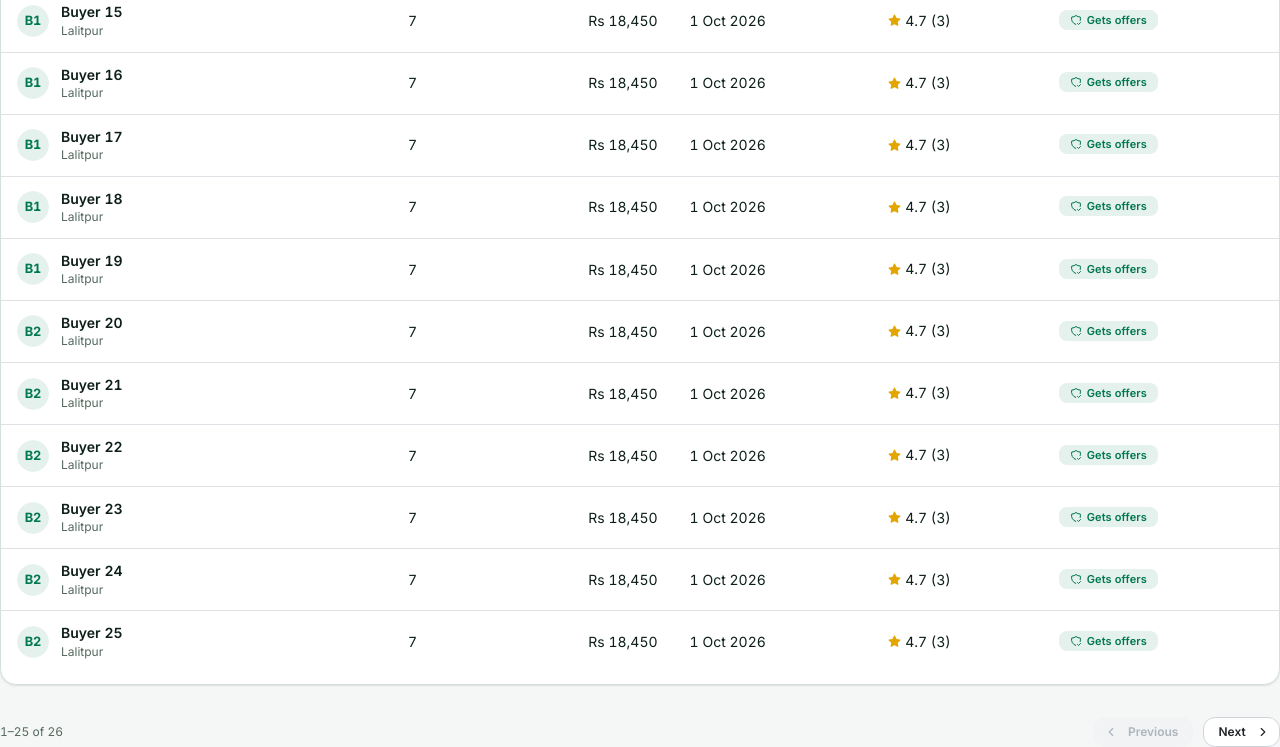
it: customers › lists synced buyers without ever showing phone or email, with paging
(page scrolled)
What coordinates should you click on to do the following:
click the button "Next"
I would click on:
 (1242, 732)
Its box is left=1204, top=718, right=1279, bottom=746.
(page scrolled)
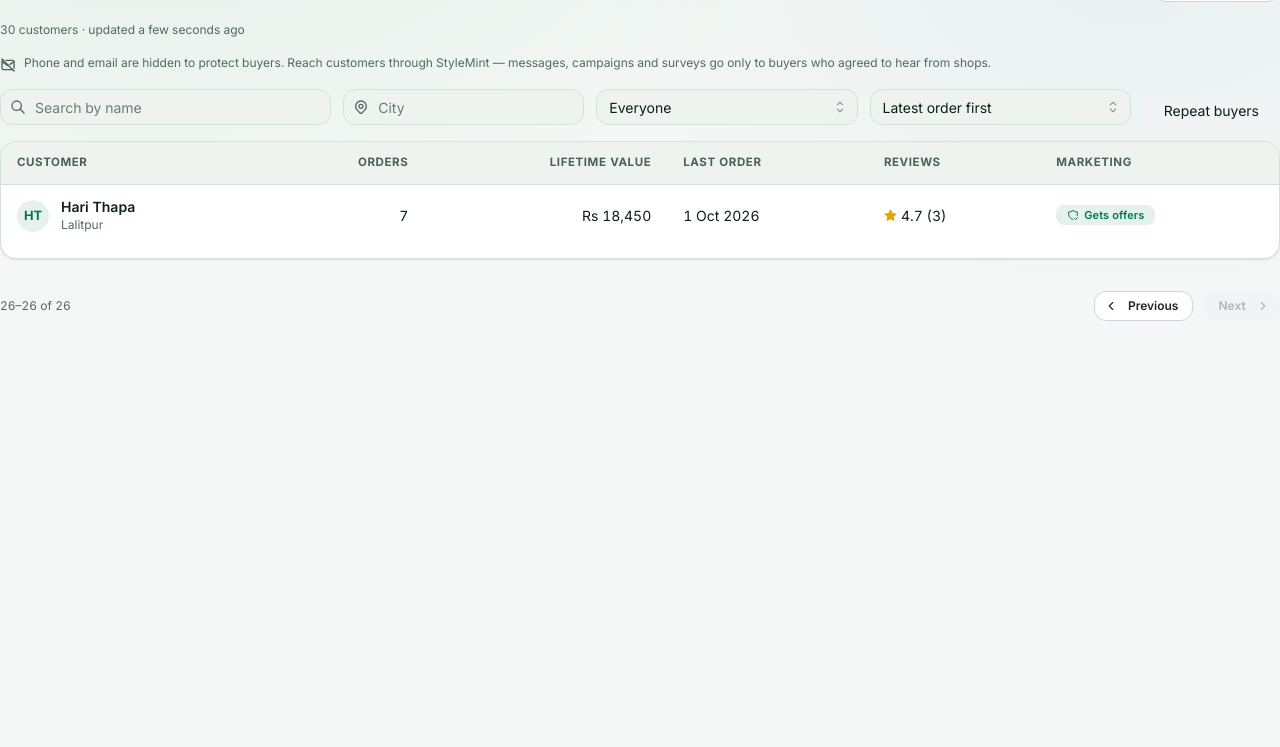
Check: the text "Hari Thapa" is shown, box left=61, top=197, right=135, bottom=217
